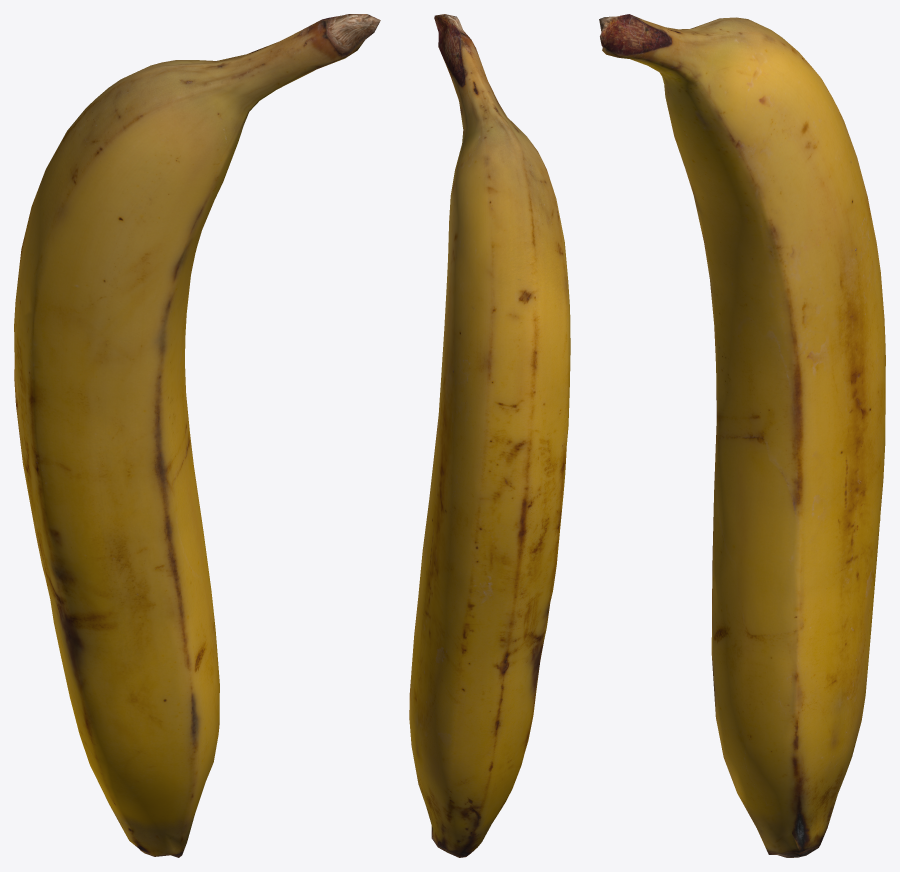
File: banana.fbx
3 renders of one model, left to right at view 1: azimuth 30°, elevation 25°; view 2: azimuth 150°, elevation 25°; view 3: azimuth 270°, elevation 25°, orthographic. The views are drawn at different scales.
Parts seen in each view (by area): view 1: tklkaixiw_LOD0_TIER2_000; view 2: tklkaixiw_LOD0_TIER2_000; view 3: tklkaixiw_LOD0_TIER2_000.
Part boxes in pixels (x1,y1,x2,y2): tklkaixiw_LOD0_TIER2_000: [14, 14, 380, 857]; tklkaixiw_LOD0_TIER2_000: [409, 14, 570, 857]; tklkaixiw_LOD0_TIER2_000: [599, 14, 885, 857].
Size of the model in its own units: 0.4369 by 1.46 by 0.4291.
Materials: 1 (1 with a texture image).
